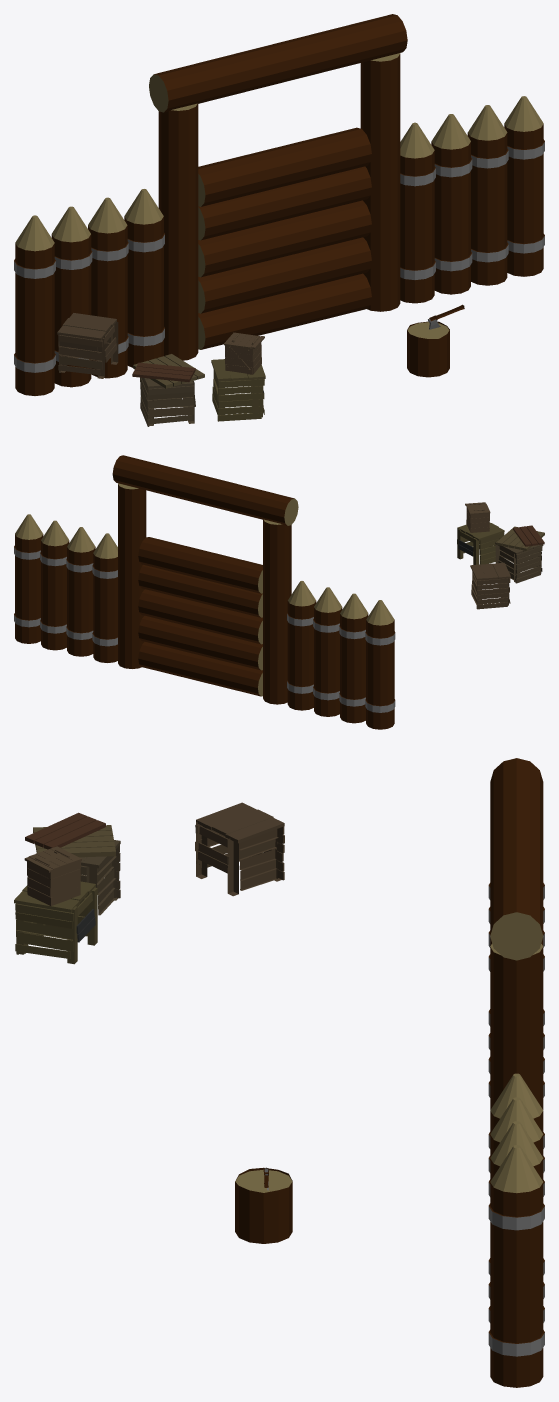
File: VLoc2.1.fbx
The picture shows the model from 3 angles, top to bottom: view 1: azimuth 30°, elevation 25°; view 2: azimuth 150°, elevation 25°; view 3: azimuth 270°, elevation 25°; orthographic projection. The views are drawn at different scales.
Parts seen in each view (by area): view 1: Cylinder.005, Cylinder.002, Cylinder, Cylinder.010, Cube.197, Cube.205, Cylinder.011, Cube.201, Cube.014, Cube.208, Cube.207; view 2: Cylinder.005, Cylinder.002, Cylinder.010, Cylinder, Cube.197, Cube.205, Cube.201, Cube.014, Cube.208, Cube.207; view 3: Cylinder.002, Cylinder, Cube.197, Cube.205, Cylinder.011, Cube.014, Cube.201, Cube.208, Cube.207.
Part boxes in pixels (<box>): Cylinder.005: <box>198,127,371,349</box>; Cylinder.002: <box>149,14,407,360</box>; Cylinder: <box>400,96,544,303</box>; Cylinder.010: <box>14,189,164,395</box>; Cube.197: <box>57,313,118,378</box>; Cube.205: <box>211,359,265,421</box>; Cylinder.011: <box>407,304,464,377</box>; Cube.201: <box>140,377,195,426</box>; Cube.014: <box>224,332,264,374</box>; Cube.208: <box>132,362,195,382</box>; Cube.207: <box>133,354,204,388</box>; Cylinder.005: <box>138,537,262,696</box>; Cylinder.002: <box>112,455,298,704</box>; Cylinder.010: <box>287,581,395,729</box>; Cylinder: <box>14,514,117,662</box>; Cube.197: <box>470,562,510,609</box>; Cube.205: <box>457,522,504,564</box>; Cube.201: <box>495,542,543,583</box>; Cube.014: <box>465,502,490,532</box>; Cube.208: <box>513,525,544,546</box>; Cube.207: <box>496,526,544,550</box>; Cylinder.002: <box>490,758,543,1109</box>; Cylinder: <box>488,1073,544,1387</box>; Cube.197: <box>195,802,284,896</box>; Cube.205: <box>14,881,97,964</box>; Cylinder.011: <box>235,1167,292,1243</box>; Cube.014: <box>24,846,81,905</box>; Cube.201: <box>79,840,120,915</box>; Cube.208: <box>25,812,105,849</box>; Cube.207: <box>33,825,115,857</box>.
Bounding box in the file's own units: 969 × 448 × 565.
